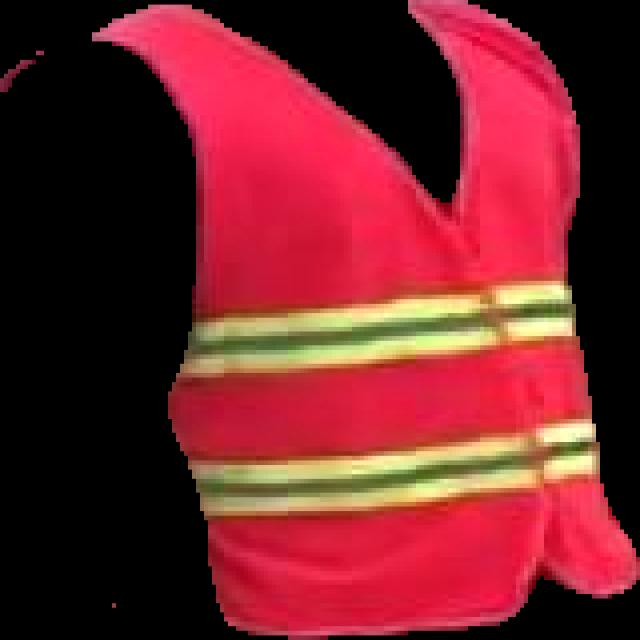Colete: (92, 0, 639, 639)
